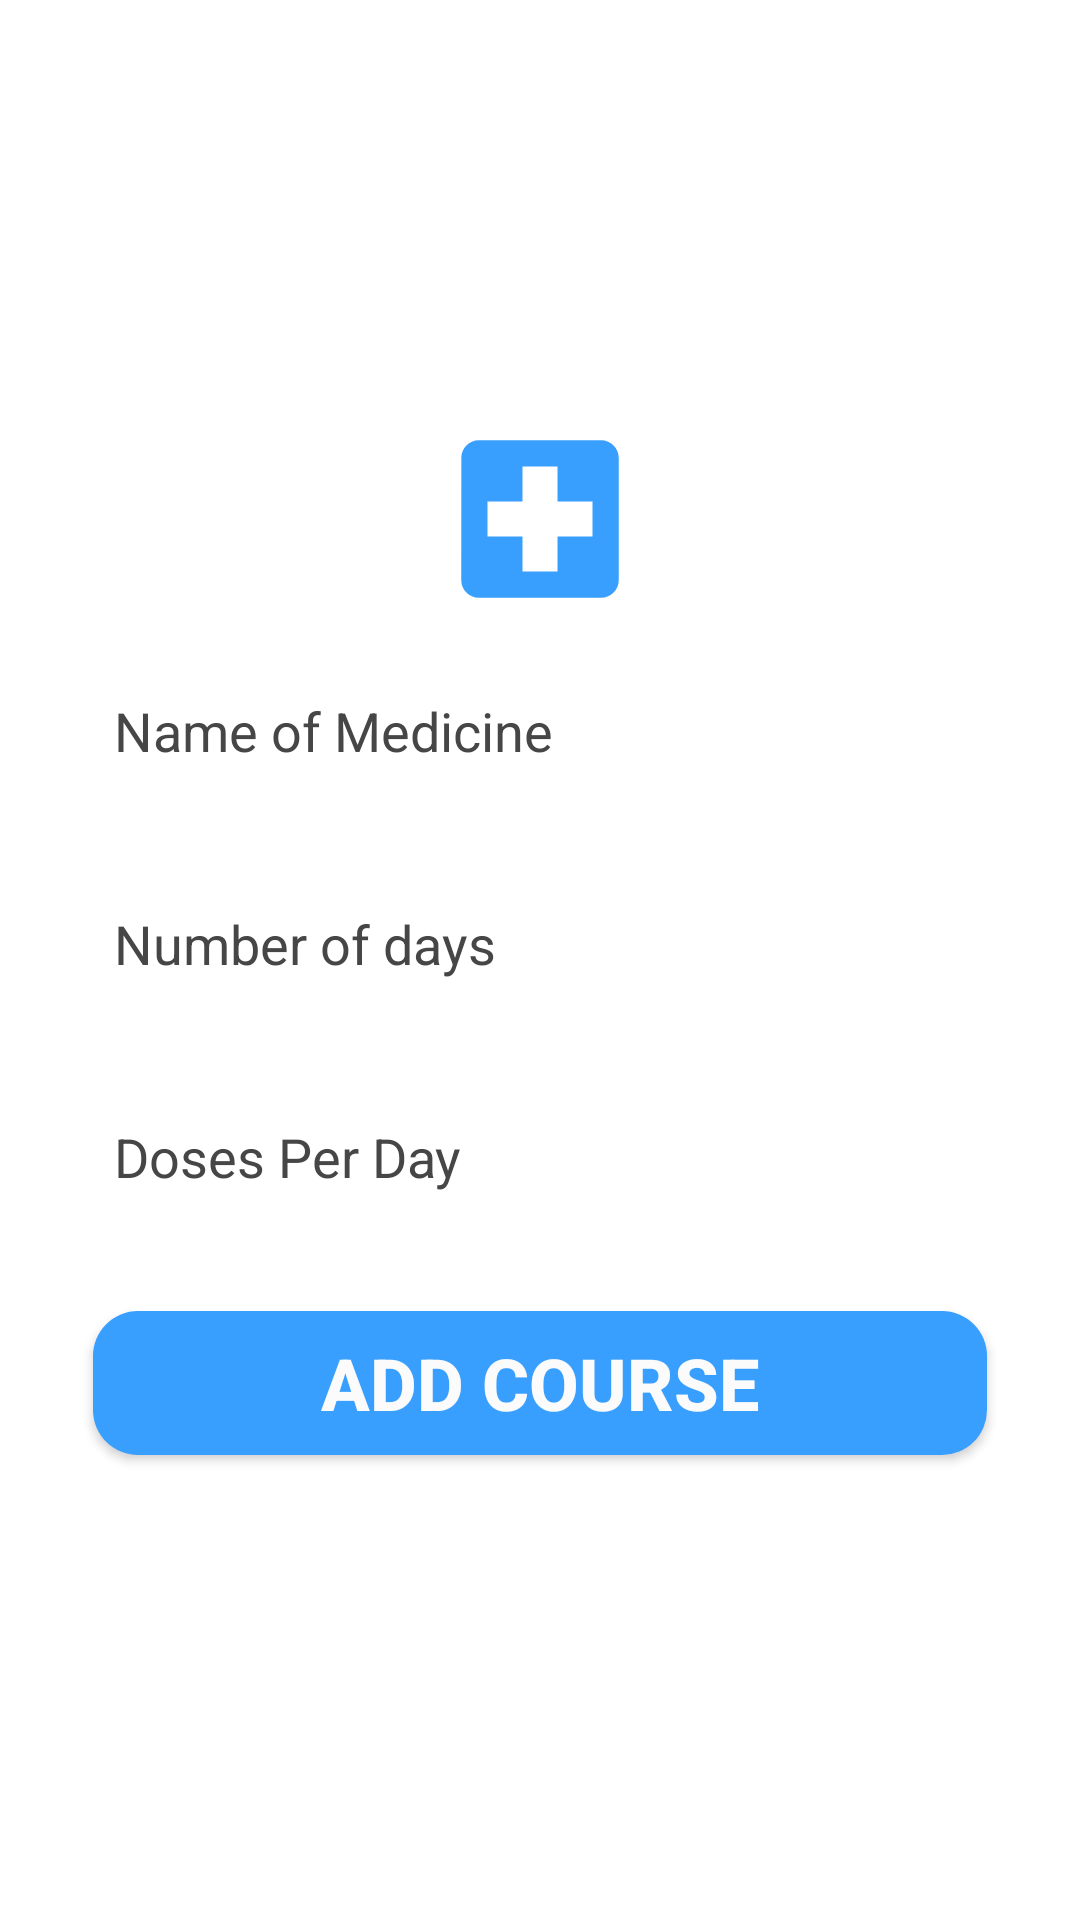

Locate icon controls on the screen. Image size 1080x1920, boxes as (x1,y1,x2,y2).
local hospital: (461,440,619,598)
